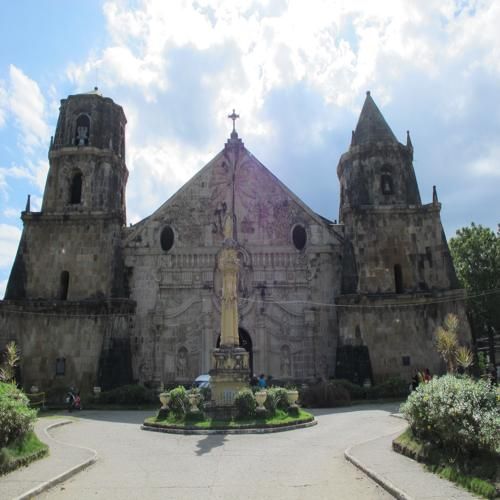Miagao Church: (5, 67, 479, 404)
